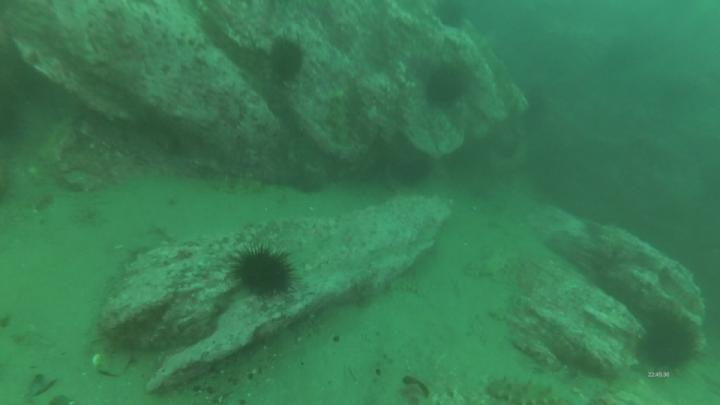echinus: (227, 245, 297, 306), (640, 311, 702, 378), (266, 36, 309, 86), (424, 60, 468, 106), (390, 158, 437, 188), (434, 1, 471, 29)
holothurian: (483, 373, 576, 405), (207, 169, 267, 198), (328, 97, 357, 152)
